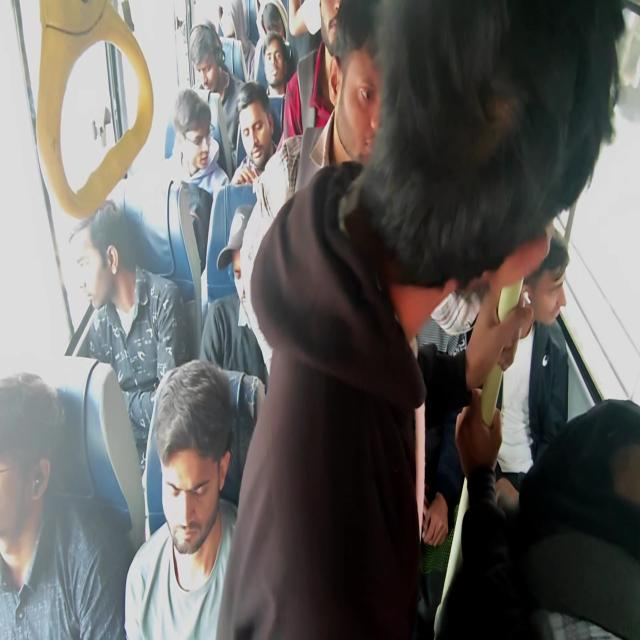person: (386, 28, 622, 250), (533, 404, 639, 640), (0, 385, 67, 639), (513, 242, 573, 382), (342, 56, 417, 166), (77, 201, 145, 313), (173, 370, 237, 486), (316, 0, 359, 77), (236, 242, 284, 304), (182, 28, 230, 85), (178, 111, 222, 165), (248, 99, 280, 164), (256, 51, 292, 90), (260, 5, 285, 46), (218, 11, 244, 40)
